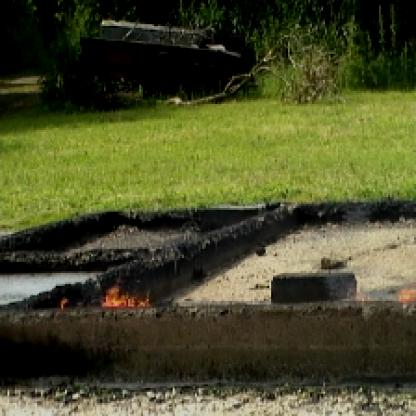Fire: (93, 279, 165, 312), (388, 271, 414, 305)
